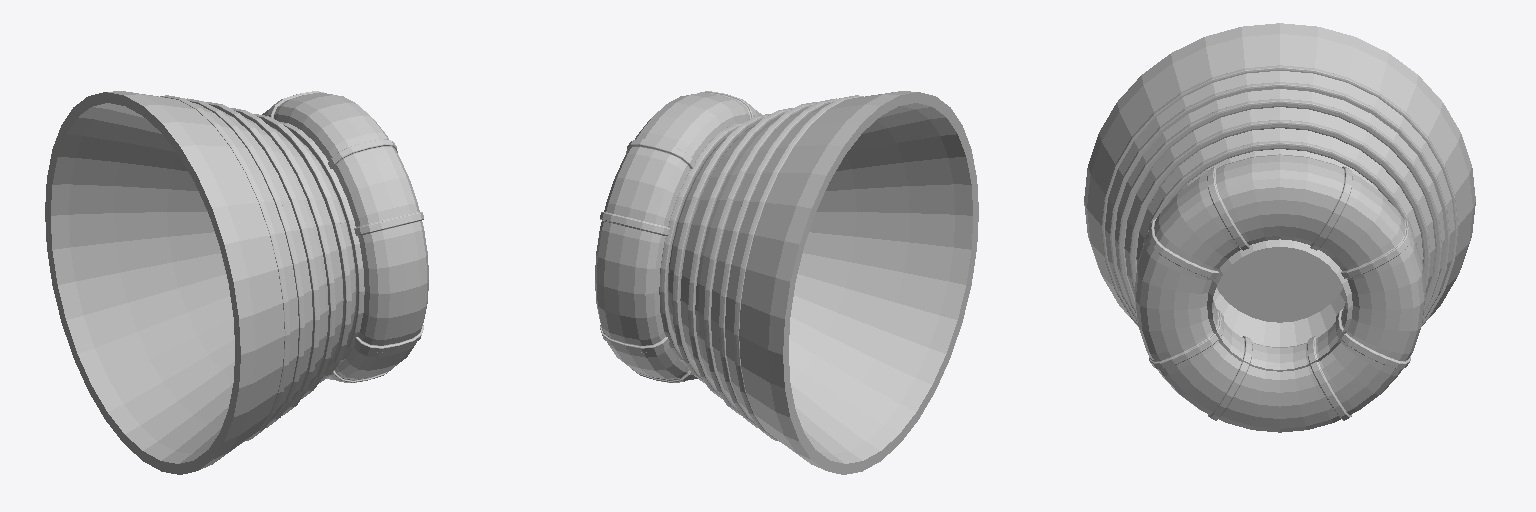
File: thruster_head.obj
3 renders of one model, left to right at view 1: azimuth 30°, elevation 25°; view 2: azimuth 150°, elevation 25°; view 3: azimuth 270°, elevation 25°, orthographic.
Parts seen in each view (by area): view 1: thruster; view 2: thruster; view 3: thruster.
Part boxes in pixels (left/top/right/bottom): thruster: left=45, top=91, right=428, bottom=474; thruster: left=595, top=91, right=978, bottom=474; thruster: left=1084, top=23, right=1475, bottom=432.
Bounding box in the file's own units: 0.5277 × 0.7927 × 0.7927.